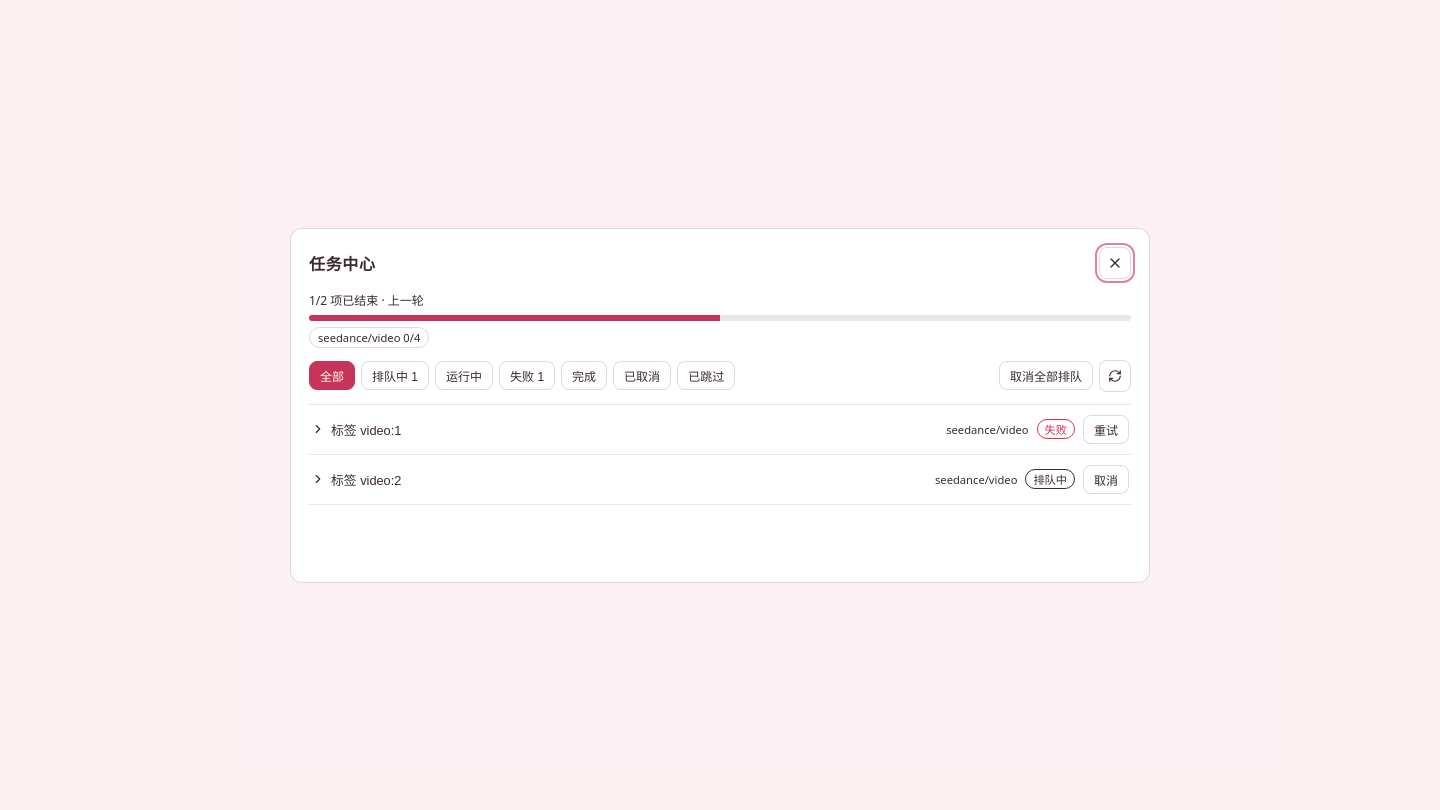
TaskCenter › cancels and retries through the routes, encoding the key
Later steps or results of the test are not shown.
Click the button "取消". click: (1106, 479)
box: [1083,464,1129,494]
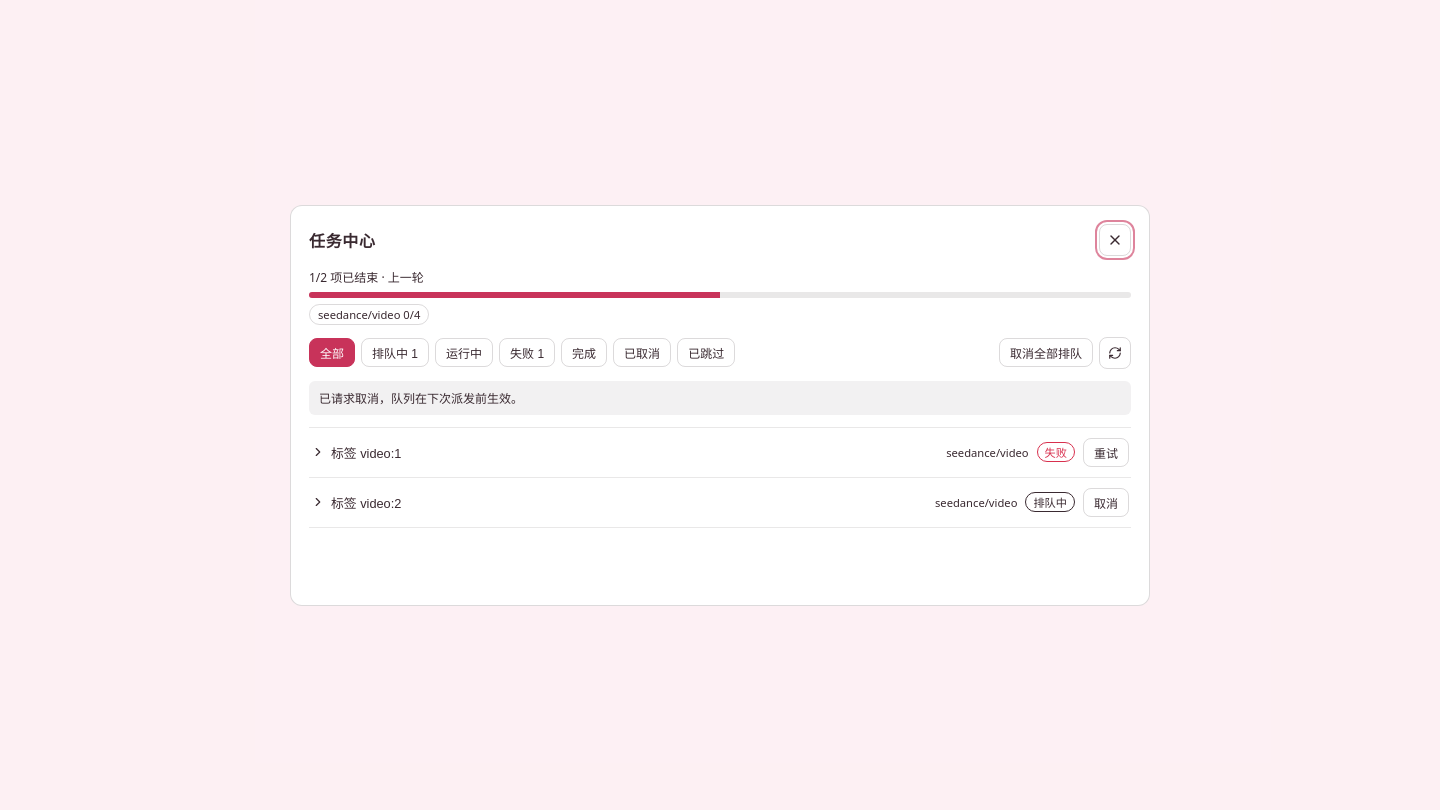
Expected: the message "已请求取消，队列在下次派发前生效。" is shown, [309,380,1131,414]
